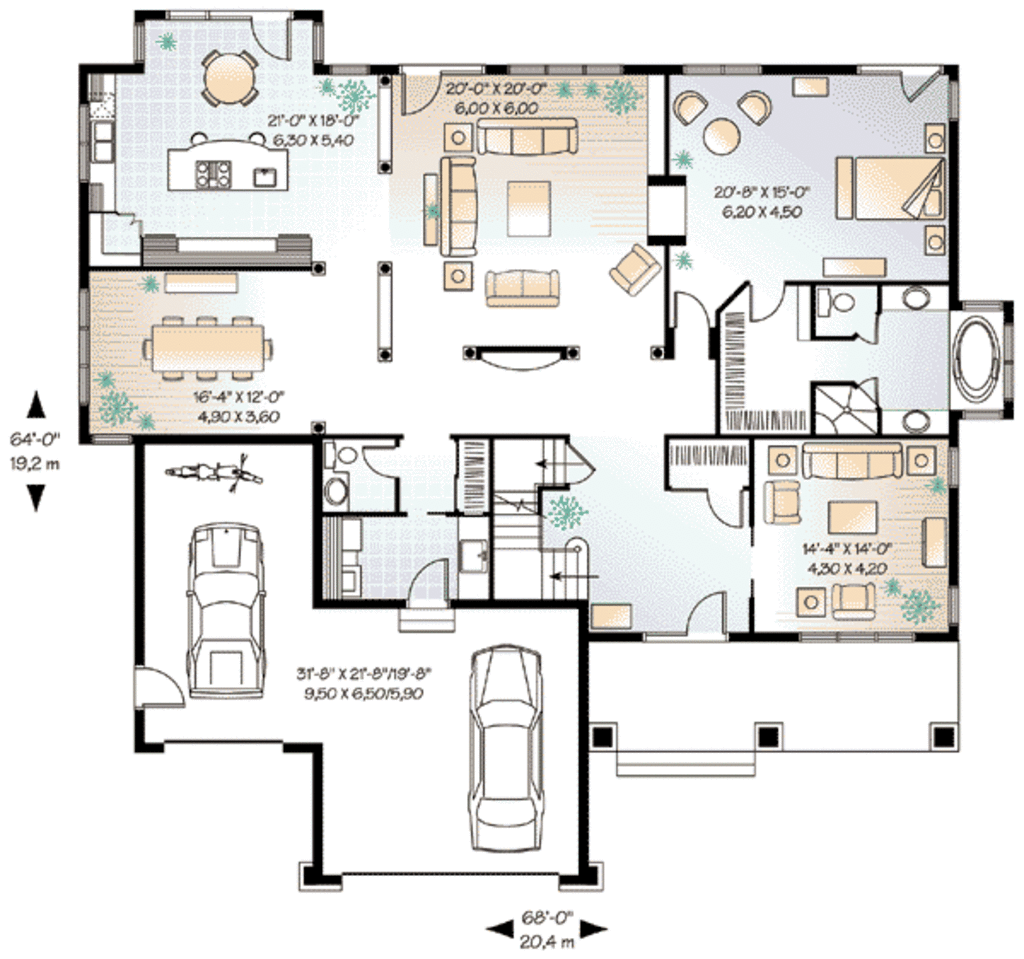bed: (843, 153, 951, 224)
dining_table: (125, 305, 291, 396)
door: (395, 562, 473, 641), (682, 583, 740, 648), (239, 6, 304, 62), (119, 659, 185, 714), (395, 60, 452, 123), (660, 286, 721, 330), (748, 272, 788, 336), (700, 483, 749, 533), (892, 59, 942, 106), (360, 433, 407, 481), (561, 435, 594, 480), (106, 203, 148, 236)
kitchen_bar: (139, 109, 307, 205)
large_sink: (809, 283, 864, 324), (313, 432, 366, 471)
large_sofa: (469, 106, 595, 165), (798, 436, 901, 487), (440, 150, 479, 263), (479, 266, 558, 306)
round_table: (172, 29, 270, 117)
small_sink: (324, 468, 352, 511), (897, 405, 930, 436), (894, 283, 930, 309)
small_sofa: (610, 241, 666, 305), (825, 575, 882, 620), (766, 478, 809, 529)
stairs: (479, 438, 594, 602)
tub: (940, 309, 1003, 408)
twin_sink: (88, 108, 121, 171)
window: (795, 626, 918, 648), (682, 54, 763, 84), (78, 284, 95, 403), (503, 63, 621, 80), (936, 584, 969, 633), (88, 429, 139, 448), (945, 442, 960, 487)
